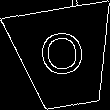O_S: (37, 29, 91, 86)
